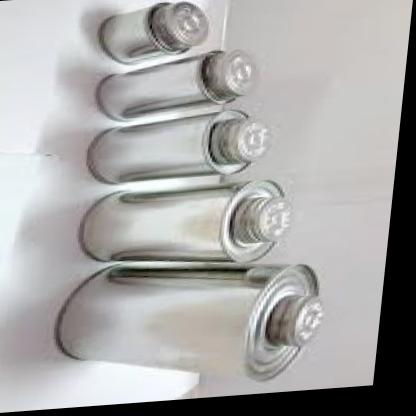Metal: (19, 0, 368, 413)
